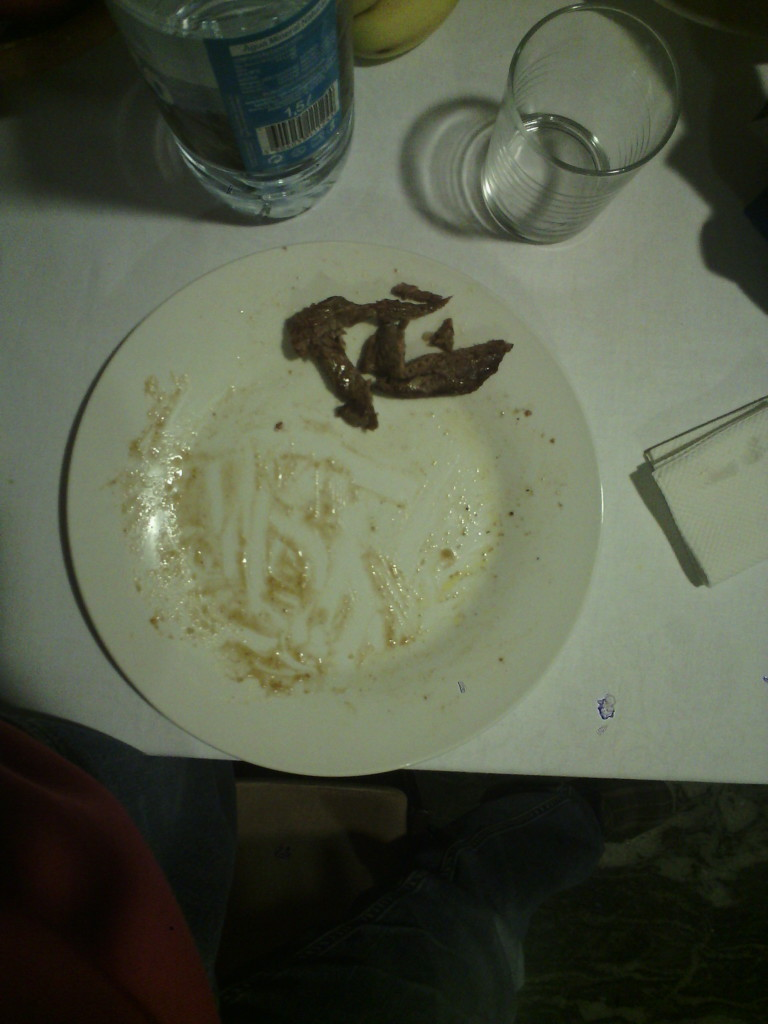0-20: (72, 242, 601, 777)
